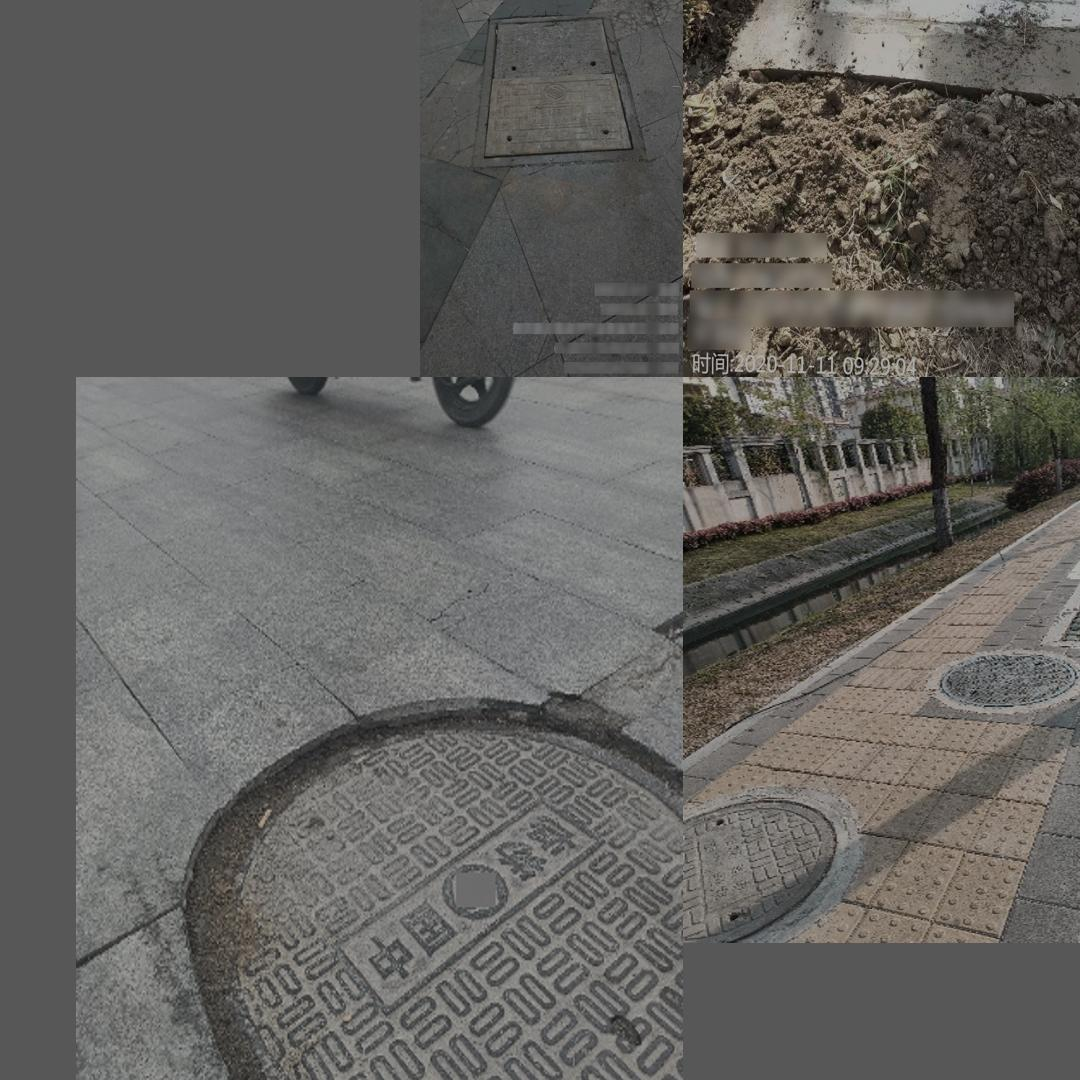good: (215, 718, 679, 1080), (471, 12, 648, 166), (753, 0, 1080, 73), (683, 793, 836, 941), (938, 653, 1078, 708)
